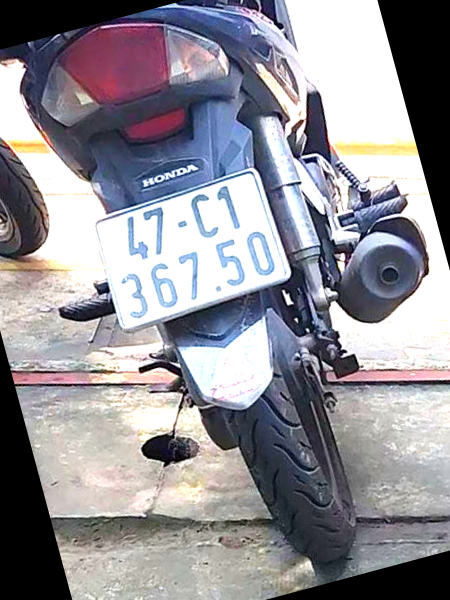number: (99, 170, 290, 331)
